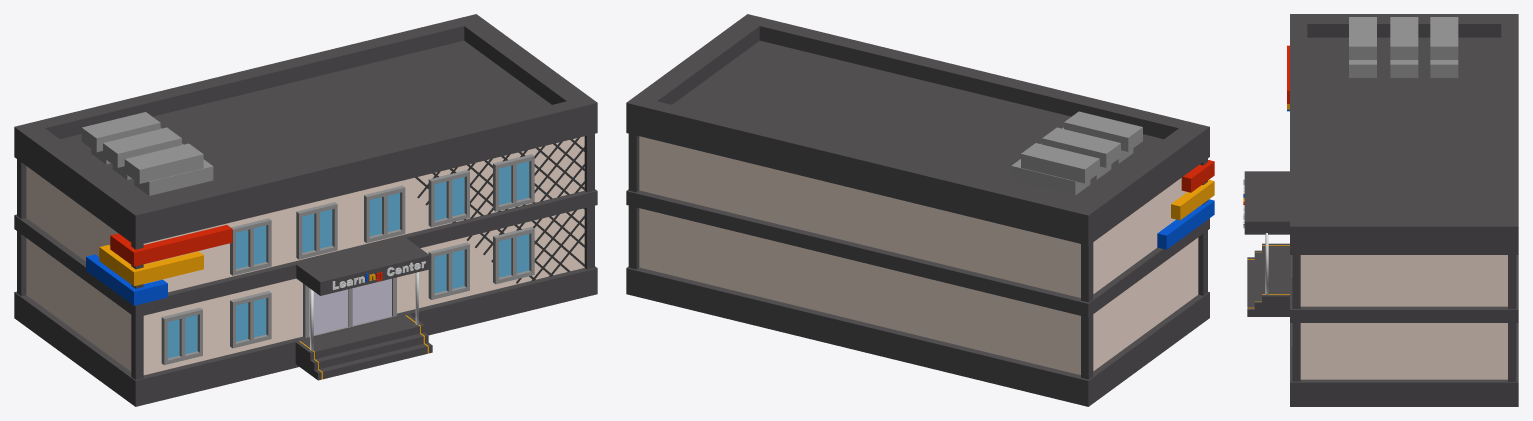
File: Tomchi learning center.fbx
3 renders of one model, left to right at view 1: azimuth 30°, elevation 25°; view 2: azimuth 150°, elevation 25°; view 3: azimuth 270°, elevation 25°, orthographic. The views are drawn at different scales.
Visible parts, largest first — view 1: Cube.032, Wooden wall.006, Cube.001, Cube, Wooden wall.003, Wooden wall, Cube.008, Cube.005, Plane.006, Plane.020, Cube.002, Cube.003 (+22 smaller); view 2: Cube.032, Wooden wall.006, Wooden wall.001, Cube.001, Cube, Wooden wall, Cube.008, Cube.004, Cube.003, Cube.002, Wooden wall.003; view 3: Cube.032, Wooden wall.002, Wooden wall.006, Cube, Cube.001, Cube.008, Cube.005, Wooden wall.001.
Part boxes in pixels (x1=…): Cube.032: x1=14, y1=14, x2=597, y2=245; Wooden wall.006: x1=17, y1=133, x2=594, y2=292; Cube.001: x1=14, y1=266, x2=597, y2=406; Cube: x1=14, y1=189, x2=597, y2=317; Wooden wall.003: x1=131, y1=208, x2=584, y2=379; Wooden wall: x1=17, y1=231, x2=131, y2=371; Cube.008: x1=81, y1=112, x2=213, y2=195; Cube.005: x1=295, y1=314, x2=432, y2=380; Plane.006: x1=415, y1=137, x2=584, y2=283; Plane.020: x1=309, y1=278, x2=391, y2=336; Cube.002: x1=110, y1=225, x2=232, y2=266; Cube.003: x1=99, y1=245, x2=203, y2=286; Cube.032: x1=626, y1=14, x2=1209, y2=245; Wooden wall.006: x1=628, y1=133, x2=1207, y2=302; Wooden wall.001: x1=628, y1=205, x2=1080, y2=374; Cube.001: x1=626, y1=266, x2=1209, y2=406; Cube: x1=626, y1=189, x2=1209, y2=317; Wooden wall: x1=1081, y1=237, x2=1198, y2=379; Cube.008: x1=1011, y1=111, x2=1142, y2=195; Cube.004: x1=1157, y1=199, x2=1214, y2=249; Cube.003: x1=1171, y1=179, x2=1214, y2=220; Cube.002: x1=1181, y1=160, x2=1214, y2=192; Wooden wall.003: x1=1198, y1=230, x2=1207, y2=295; Cube.032: x1=1290, y1=14, x2=1518, y2=254; Wooden wall.002: x1=1292, y1=323, x2=1507, y2=381; Wooden wall.006: x1=1292, y1=255, x2=1516, y2=309; Cube: x1=1244, y1=171, x2=1518, y2=322; Cube.001: x1=1290, y1=323, x2=1518, y2=406; Cube.008: x1=1349, y1=17, x2=1458, y2=77; Cube.005: x1=1247, y1=243, x2=1289, y2=316; Wooden wall.001: x1=1508, y1=323, x2=1516, y2=381.
Bounding box in the file's own units: 6929 × 2921 × 3767.
